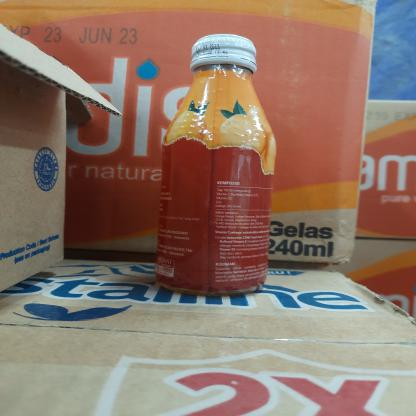keyboard: (150, 32, 283, 298)
